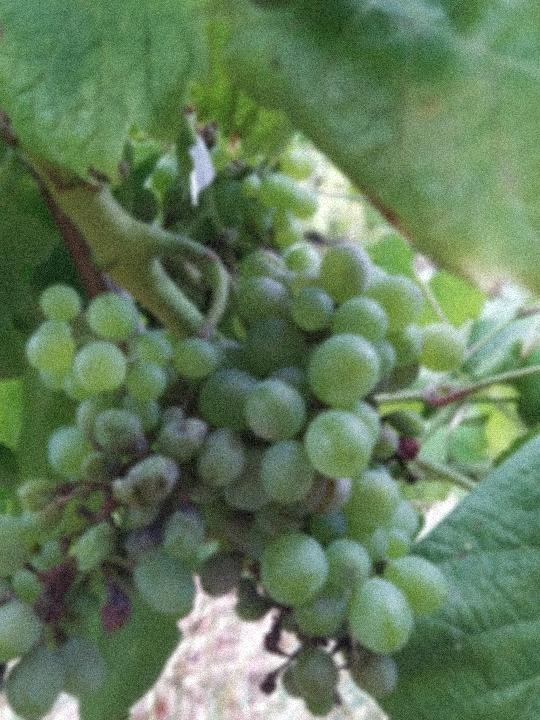grape: (0, 237, 471, 720)
